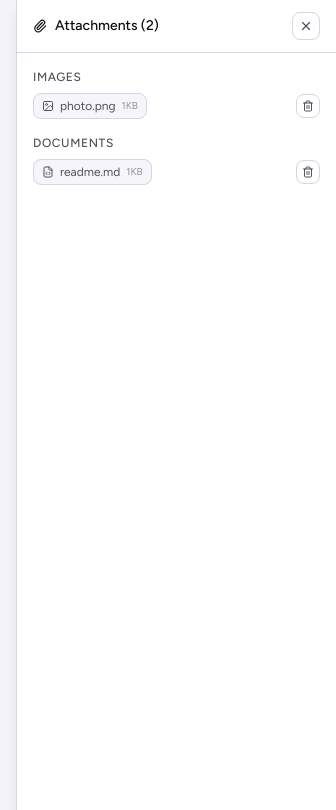
Test: ThreadAttachmentsPanel › deletes a file and removes it from the list
Check: the heading "Attachments (2)" is shown, box [33,16,159,36]
Click the button named "Delete photo.png". click: (308, 106)
box: [296,94,320,118]
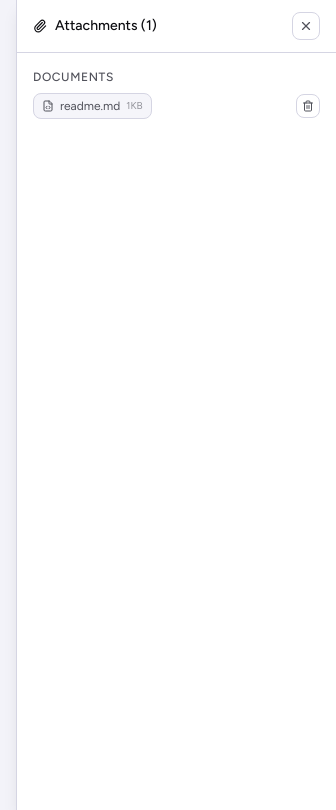
Check: the heading "Attachments (1)" is shown, box [33,16,157,36]
